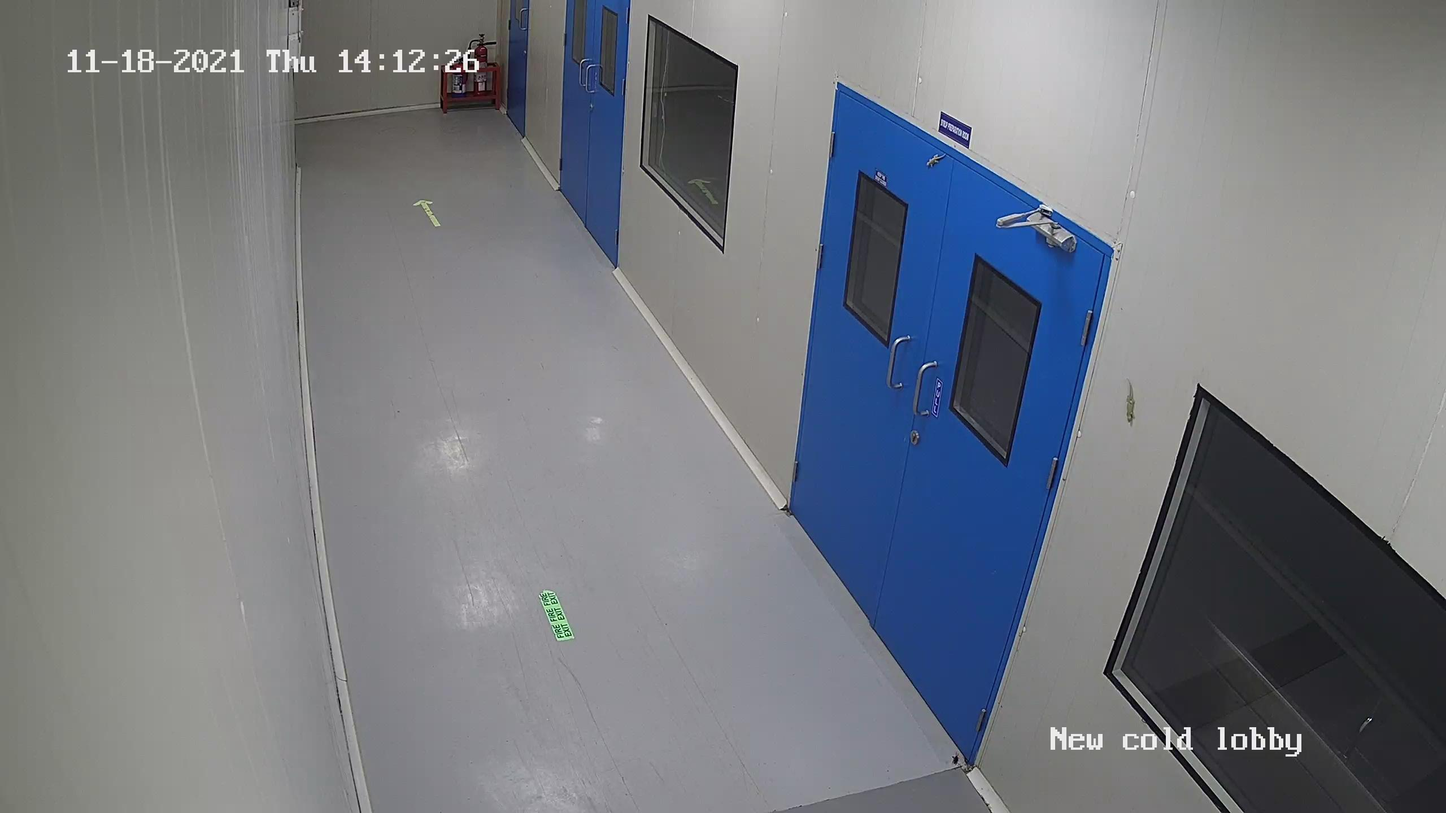cockroach: (945, 743, 965, 770)
lizard: (1117, 376, 1138, 427), (923, 151, 950, 170)
